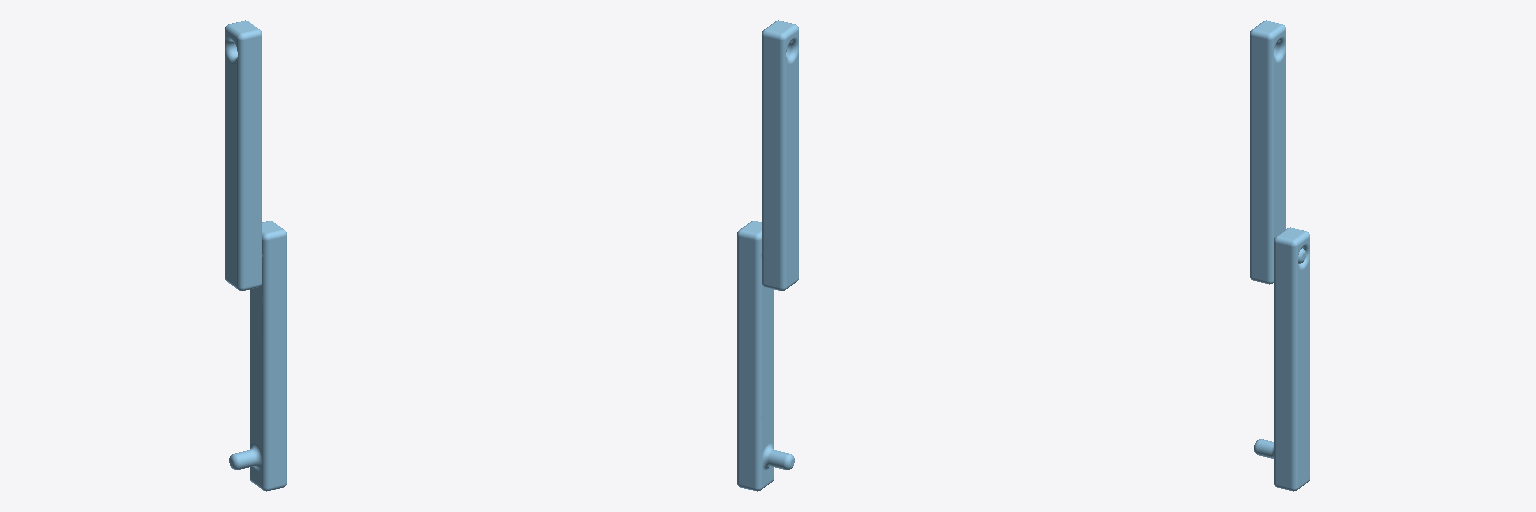
robot.urdf — pendubot:
<robot name="pendubot">
<link name="support_plaform_1">
<visual>
<origin xyz="-0.085000000000000019984 0.024999999999999997918 -0.020000000000000003886" rpy="-1.3877787807814456755e-16 1.9047944049941415051e-16 0" />
<geometry>
<mesh filename="package://pendubot_description/pendubot/support_plaform_1.stl"/>
</geometry>
<material name="support_plaform_1_material">
<color rgba="0.61568627450980395466 0.81176470588235294379 0.92941176470588238168 1.0"/>
</material>
</visual>
<collision>
<origin xyz="-0.085000000000000019984 0.024999999999999997918 -0.020000000000000003886" rpy="-1.3877787807814456755e-16 1.9047944049941415051e-16 0" />
<geometry>
<mesh filename="package://pendubot_description/pendubot/support_plaform_1.stl"/>
</geometry>
</collision>
<inertial>
<origin xyz="-0.084999999999999978351 0.0019366224157372038169 0.20527754982977566844" rpy="0 0 0"/>
<mass value="8.3650792577619803581" />
<inertia ixx="0.18809404056513884251" ixy="6.6429634534729561893e-19"  ixz="-3.3040840509945104842e-17" iyy="0.19768960892502629445" iyz="0.0034874963072423492694" izz="0.014632587595117504606" />
</inertial>
</link>

<link name="cart_pole_line">
<visual>
<origin xyz="0.0050000000000000009714 -0.049999999999999988898 -1.3877787807814456755e-17" rpy="-1.570796326794896558 -1.570796326794896558 0" />
<geometry>
<mesh filename="package://pendubot_description/pendubot/cart_pole_line.stl"/>
</geometry>
<material name="cart_pole_line_material">
<color rgba="0.61568627450980395466 0.81176470588235294379 0.92941176470588238168 1.0"/>
</material>
</visual>
<collision>
<origin xyz="0.0050000000000000009714 -0.049999999999999988898 -1.3877787807814456755e-17" rpy="-1.570796326794896558 -1.570796326794896558 0" />
<geometry>
<mesh filename="package://pendubot_description/pendubot/cart_pole_line.stl"/>
</geometry>
</collision>
<inertial>
<origin xyz="-0.99507213325206489429 -0.021216690244781032104 -3.5306212902944823361e-05" rpy="0 0 0"/>
<mass value="17.129471613392958318" />
<inertia ixx="0.010371517126750266768" ixy="-2.2571194222369972551e-05"  ixz="8.5176426230256071983e-06" iyy="5.7133527876254550648" iyz="-5.938288855520099704e-06" izz="5.7091229148612372413" />
</inertial>
</link>

<link name="support_plaform_1_2">
<visual>
<origin xyz="0.0050000000000001154632 -0.48999999999999999112 8.3266726846886740532e-17" rpy="-1.570796326794896558 -1.570796326794896558 0" />
<geometry>
<mesh filename="package://pendubot_description/pendubot/support_plaform_1.stl"/>
</geometry>
<material name="support_plaform_1_material">
<color rgba="0.61568627450980395466 0.81176470588235294379 0.92941176470588238168 1.0"/>
</material>
</visual>
<collision>
<origin xyz="0.0050000000000001154632 -0.48999999999999999112 8.3266726846886740532e-17" rpy="-1.570796326794896558 -1.570796326794896558 0" />
<geometry>
<mesh filename="package://pendubot_description/pendubot/support_plaform_1.stl"/>
</geometry>
</collision>
<inertial>
<origin xyz="-0.018063377584262709646 -0.26472245017022433267 7.9318860187151341436e-17" rpy="0 0 0"/>
<mass value="8.3650792577619803581" />
<inertia ixx="0.19768960892502629445" ixy="0.0034874963072423744229"  ixz="2.639638845664999534e-49" iyy="0.014632587595117504606" iyz="2.3862418064830125439e-51" izz="0.18809404056513884251" />
</inertial>
</link>

<joint name="fastened 3" type="fixed">
<origin xyz="-1.9899999999999999911 0 -1.3877787807814456755e-17" rpy="3.141592653589793116 6.8422776578360208541e-49 3.141592653589793116" />
<parent link="cart_pole_line" />
<child link="support_plaform_1_2" />
<axis xyz="0 0 1"/>
<limit effort="1" velocity="20" />
<joint_properties friction="0.0"/>
</joint>

<link name="cart_move">
<visual>
<origin xyz="0.090000000000000024425 -0.025000000000000022204 -0.074999999999999955591" rpy="-1.570796326794896558 -1.570796326794896336 0" />
<geometry>
<mesh filename="package://pendubot_description/pendubot/cart_move.stl"/>
</geometry>
<material name="cart_move_material">
<color rgba="0.61568627450980395466 0.81176470588235294379 0.92941176470588238168 1.0"/>
</material>
</visual>
<collision>
<origin xyz="0.090000000000000024425 -0.025000000000000022204 -0.074999999999999955591" rpy="-1.570796326794896558 -1.570796326794896336 0" />
<geometry>
<mesh filename="package://pendubot_description/pendubot/cart_move.stl"/>
</geometry>
</collision>
<inertial>
<origin xyz="0.040619485761392813694 0.03507424335133896981 5.5511151231257827021e-17" rpy="0 0 0"/>
<mass value="2.7582989593438584919" />
<inertia ixx="0.0072884337806232426735" ixy="1.7214130923659983201e-05"  ixz="5.5457548773363819873e-21" iyy="0.007943139603199119228" iyz="9.1364122808394913014e-19" izz="0.0051071794741707502926" />
</inertial>
</link>

<link name="cart_swinger">
<visual>
<origin xyz="1.1102230246251565404e-16 -0.23000000000000000999 -0.020000000000000000416" rpy="-1.570796326794896558 -3.8811238815456647556e-49 0" />
<geometry>
<mesh filename="package://pendubot_description/pendubot/cart_swinger.stl"/>
</geometry>
<material name="cart_swinger_material">
<color rgba="0.61568627450980395466 0.81176470588235294379 0.92941176470588238168 1.0"/>
</material>
</visual>
<collision>
<origin xyz="1.1102230246251565404e-16 -0.23000000000000000999 -0.020000000000000000416" rpy="-1.570796326794896558 -3.8811238815456647556e-49 0" />
<geometry>
<mesh filename="package://pendubot_description/pendubot/cart_swinger.stl"/>
</geometry>
</collision>
<inertial>
<origin xyz="-2.2983265886371830608e-08 -0.11025900292345226783 -0.0080888724187521965359" rpy="0 0 0"/>
<mass value="0.48763073080899393963" />
<inertia ixx="0.0024968640996937086982" ixy="3.8883696011364461363e-10"  ixz="-1.4181265057008209006e-10" iyy="6.5485683220027306856e-05" iyz="-2.5769181796588400059e-05" izz="0.0025009745471827196997" />
</inertial>
</link>

<link name="cart_swinger_2">
<visual>
<origin xyz="1.1102230246251565404e-16 -0.22999999999999998224 -0.0050000000000000027062" rpy="-1.570796326794896558 -3.8811238815456647556e-49 0" />
<geometry>
<mesh filename="package://pendubot_description/pendubot/cart_swinger.stl"/>
</geometry>
<material name="cart_swinger_material">
<color rgba="0.61568627450980395466 0.81176470588235294379 0.92941176470588238168 1.0"/>
</material>
</visual>
<collision>
<origin xyz="1.1102230246251565404e-16 -0.22999999999999998224 -0.0050000000000000027062" rpy="-1.570796326794896558 -3.8811238815456647556e-49 0" />
<geometry>
<mesh filename="package://pendubot_description/pendubot/cart_swinger.stl"/>
</geometry>
</collision>
<inertial>
<origin xyz="-2.2983265886371830608e-08 -0.11025900292345224007 0.0069111275812478011743" rpy="0 0 0"/>
<mass value="0.48763073080899393963" />
<inertia ixx="0.0024968640996937086982" ixy="3.8883696011364461363e-10"  ixz="-1.4181265057008209006e-10" iyy="6.5485683220027306856e-05" iyz="-2.5769181796588400059e-05" izz="0.0025009745471827196997" />
</inertial>
</link>

<joint name="continuous_revolute 2" type="continuous">
<origin xyz="1.1102230246251565404e-16 -0.20000000000000006661 -0.025000000000000011796" rpy="3.141592653589793116 1.232595164407828209e-32 3.141592653589793116" />
<parent link="cart_swinger" />
<child link="cart_swinger_2" />
<axis xyz="0 0 1"/>
<limit effort="1" velocity="20" />
<joint_properties friction="0.0"/>
</joint>

<joint name="continuous_revolute 1" type="continuous">
<origin xyz="0.10468245836551855199 0.024999999999999911182 0" rpy="-2.4651903288156618919e-32 -1.570796326794896336 0" />
<parent link="cart_move" />
<child link="cart_swinger" />
<axis xyz="0 0 1"/>
<limit effort="1" velocity="20" />
<joint_properties friction="0.0"/>
</joint>

<joint name="slider 1" type="prismatic">
<origin xyz="-0.99499999999999999556 -0.025000000000000022204 -0.040000000000000021649" rpy="-0 -1.570796326794896558 0" />
<parent link="cart_pole_line" />
<child link="cart_move" />
<axis xyz="0 0 1"/>
<limit effort="1" velocity="20" lower="-0.80000000000000004441" upper="0.80000000000000004441"/>
<joint_properties friction="0.0"/>
</joint>

<joint name="fastened 2" type="fixed">
<origin xyz="-0.085000000000000006106 0.020000000000000055927 0.46999999999999997335" rpy="1.57079632679489678 1.3877787807814456755e-16 1.570796326794896558" />
<parent link="support_plaform_1" />
<child link="cart_pole_line" />
<axis xyz="0 0 1"/>
<limit effort="1" velocity="20" />
<joint_properties friction="0.0"/>
</joint>


</robot>

--- Facts derived from the render (not from the file) ---
The picture shows the robot from 3 angles, left to right: view 1: azimuth 30°, elevation 25°; view 2: azimuth 150°, elevation 25°; view 3: azimuth 330°, elevation 25°; orthographic projection.
Model pendubot with 6 links and 5 joints (2 continuous, 1 prismatic, 2 fixed), rooted at support_plaform_1, posed every joint at zero.
Visible links, largest first — view 1: cart_swinger, cart_swinger_2; view 2: cart_swinger, cart_swinger_2; view 3: cart_swinger_2, cart_swinger.
Link boxes in pixels (x1,y1,x2,y2): cart_swinger: [225, 20, 261, 290]; cart_swinger_2: [229, 221, 286, 491]; cart_swinger: [762, 20, 798, 290]; cart_swinger_2: [737, 221, 794, 491]; cart_swinger_2: [1254, 227, 1309, 491]; cart_swinger: [1250, 20, 1305, 284].
Bounding box of the posed robot: 0.05 × 0.03 × 0.45 m (x, y, z).
Meshes: 4 distinct files referenced, 2 mesh visuals loaded (1 binary STL); not drawn: 4 (reference not matched to a file when rendering).